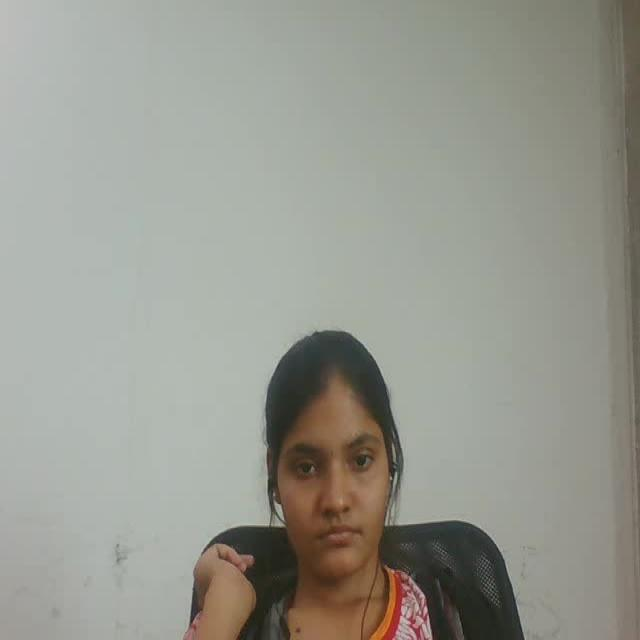Engaged: (244, 307, 442, 619)
